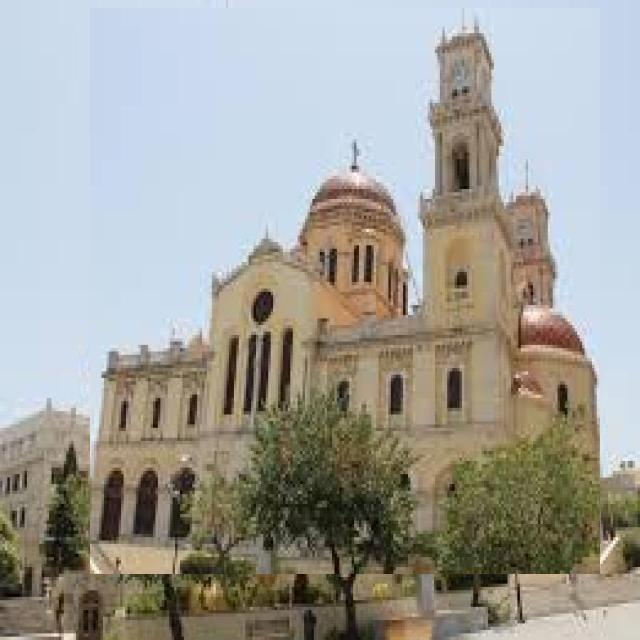Agios Minas: (91, 9, 601, 575)
